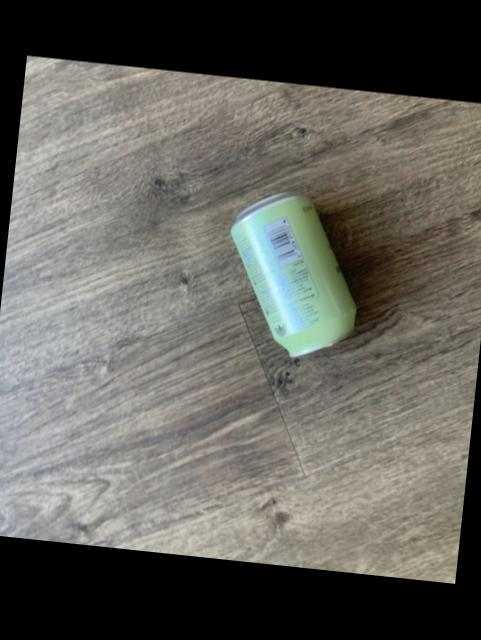metal: (232, 195, 356, 358)
